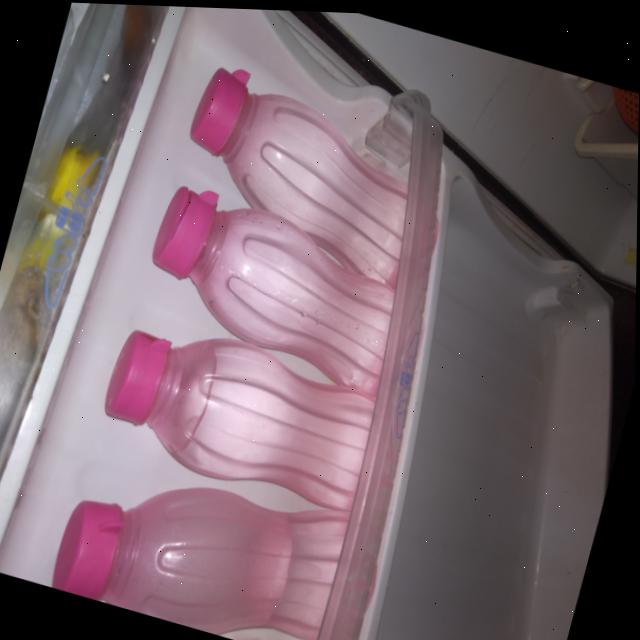Dry: (125, 158, 442, 409), (162, 47, 467, 303), (89, 306, 411, 526), (47, 436, 391, 640)
